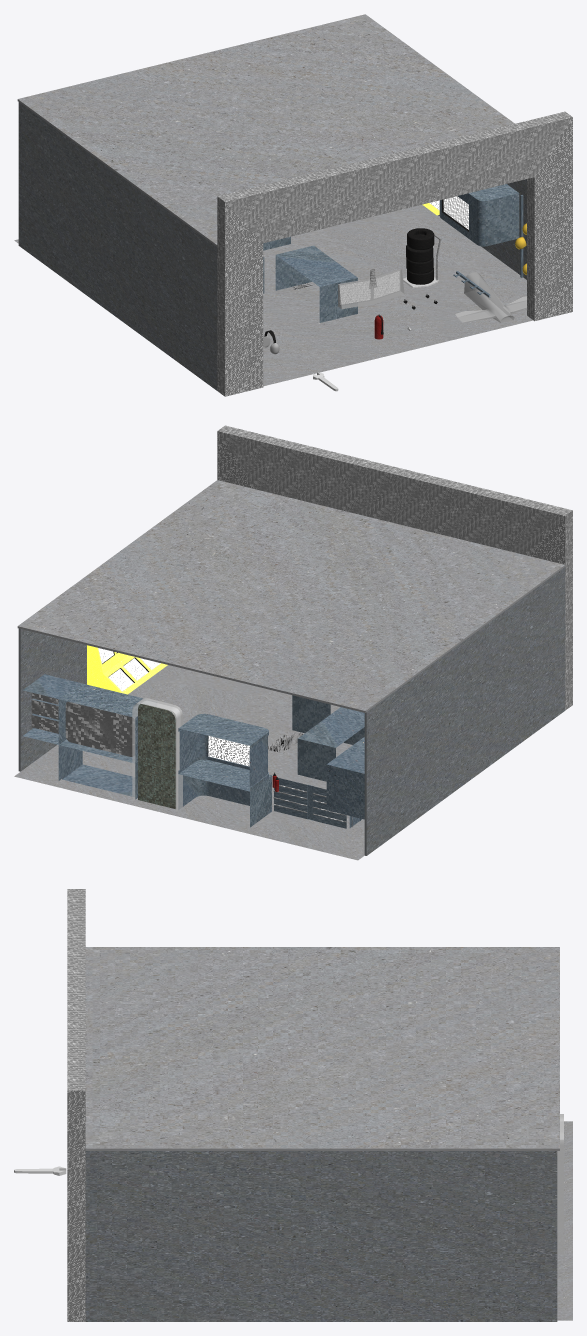
The model's file is f1_pit_garage.glb.
The picture shows the model from 3 angles, top to bottom: view 1: azimuth 30°, elevation 25°; view 2: azimuth 150°, elevation 25°; view 3: azimuth 270°, elevation 25°; orthographic projection. The views are drawn at different scales.
Parts seen in each view (by area): view 1: Ceiling_M_Ground_0, Front_door1_M_polishedMetal_0, Wall_panel_1_M_Wall_0, Floor_plane_M_Ground_0, Wall_panel_3_M_Wall_0, Bot_cabinet_BASE_10_M_cabinet_door_0, TV_cabinet_top_M_cabinet_door_0, pCube8_M_Fiberglass_0, Front_wing_M_Fiberglass_0, Wall_panel_2_M_Wall_0, pCube8_M_screen_0, TV_cabinet_top_M_screen_0 (+1 smaller); view 2: Ceiling_M_Ground_0, Wall_panel_3_M_Wall_0, Front_door1_M_polishedMetal_0, Floor_plane_M_Ground_0, Wall_panel_2_M_Wall_0, Doorway_M_door_metal_0, Bot_wall_BASE_5_M_cabinet_door_0, Bot_wall_BASE_4_M_cabinet_door_0, Bot_cabinet_BASE_11_M_cabinet_door_0, Top_cabinet_5_M_polishedMetal_0, Shelf_1_M_cabinet_door_0, Bot_cabinet_BASE_5_M_cabinet_door_0 (+9 smaller); view 3: Ceiling_M_Ground_0, Wall_panel_2_M_Wall_0, Front_door1_M_polishedMetal_0, Floor_plane_M_Ground_0, Doorway_M_dark_metal_0.
Boxes of the visible parts, x1,y1,x2,y2 form: Ceiling_M_Ground_0: (17,14,514,246); Front_door1_M_polishedMetal_0: (217,111,572,396); Wall_panel_1_M_Wall_0: (18,102,217,390); Floor_plane_M_Ground_0: (14,204,532,386); Wall_panel_3_M_Wall_0: (18,102,216,389); Bot_cabinet_BASE_10_M_cabinet_door_0: (275,245,357,322); TV_cabinet_top_M_cabinet_door_0: (439,184,519,246); pCube8_M_Fiberglass_0: (338,269,404,309); Front_wing_M_Fiberglass_0: (455,272,526,323); Wall_panel_2_M_Wall_0: (438,179,526,279); pCube8_M_screen_0: (340,271,399,304); TV_cabinet_top_M_screen_0: (443,196,468,229); Ceiling_M_Ground_0: (17,480,565,712); Wall_panel_3_M_Wall_0: (364,567,565,855); Front_door1_M_polishedMetal_0: (217,425,572,710); Floor_plane_M_Ground_0: (14,665,364,860); Wall_panel_2_M_Wall_0: (18,628,86,771); Doorway_M_door_metal_0: (138,704,175,809); Bot_wall_BASE_5_M_cabinet_door_0: (178,713,268,791); Bot_wall_BASE_4_M_cabinet_door_0: (178,759,271,827); Bot_cabinet_BASE_11_M_cabinet_door_0: (297,707,364,781); Top_cabinet_5_M_polishedMetal_0: (65,701,134,756); Shelf_1_M_cabinet_door_0: (326,748,364,819); Bot_cabinet_BASE_5_M_cabinet_door_0: (59,739,134,796); Ceiling_M_Ground_0: (85,947,559,1150); Wall_panel_2_M_Wall_0: (85,1151,557,1321); Front_door1_M_polishedMetal_0: (67,889,85,1321); Floor_plane_M_Ground_0: (557,1121,572,1320); Doorway_M_dark_metal_0: (557,1114,563,1254).
Size of the model in its own units: 11.38 by 6.1 by 13.33.
16 materials, 14 textured.
